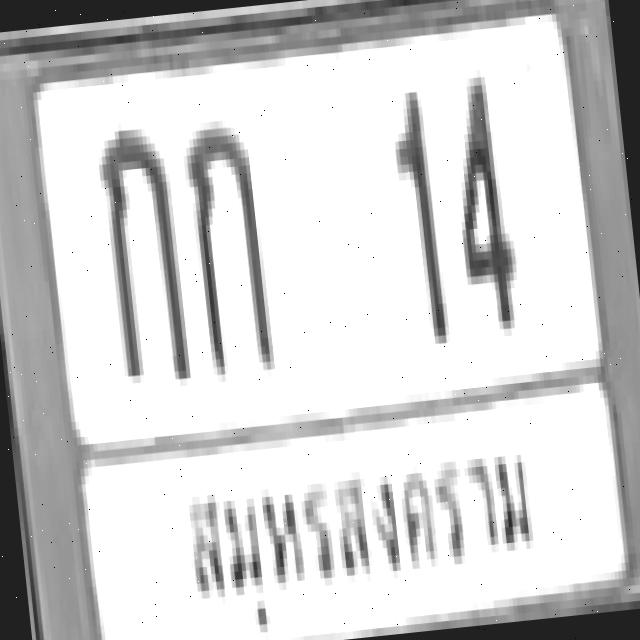1: (384, 83, 446, 338)
10GorGai: (90, 118, 186, 377), (178, 110, 270, 368)
4: (442, 68, 518, 324)
SamutSongkhram: (147, 429, 561, 640)
